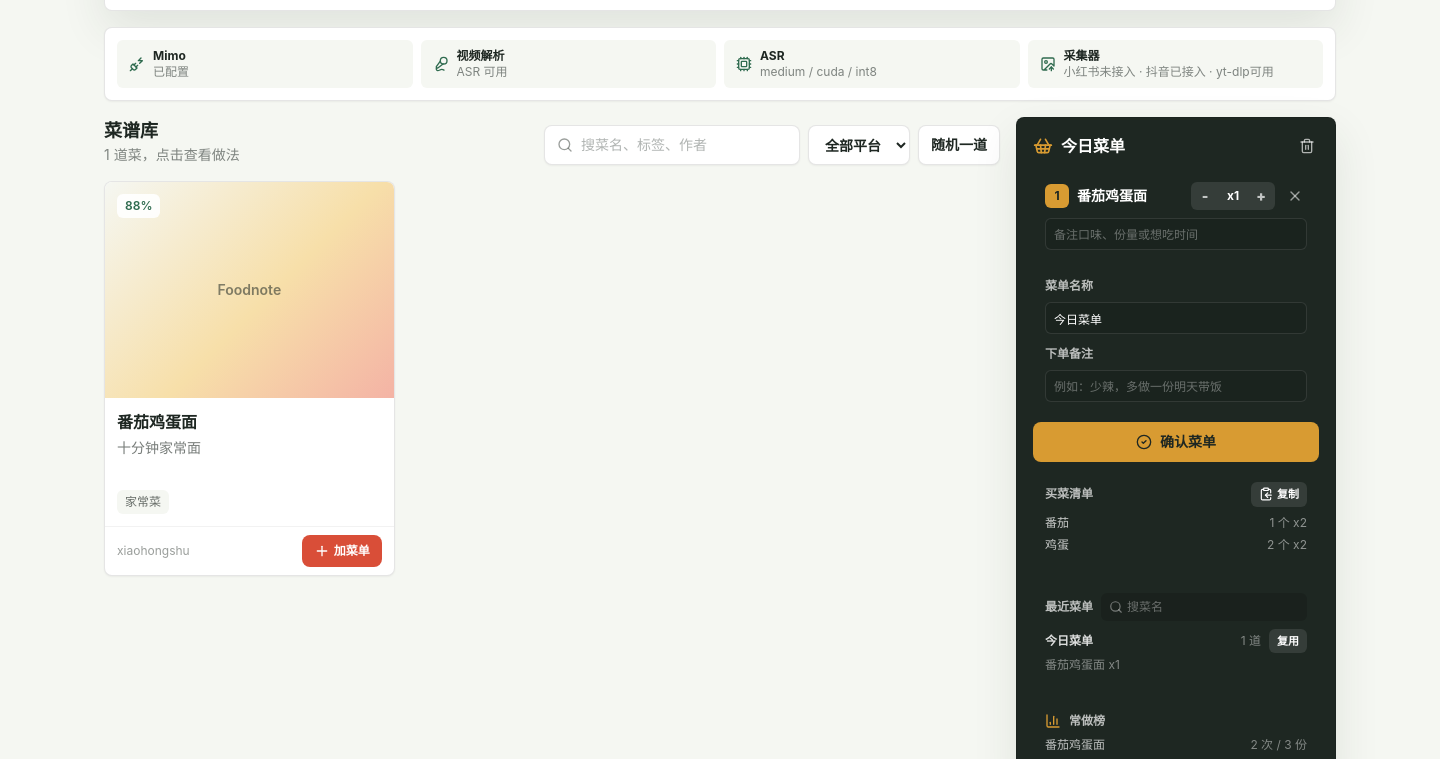
Test: App › deletes a recipe and keeps menu history intact
(page scrolled)
Click the button "Foodnote 88% 番茄鸡蛋面 十分钟家常面 家常菜".
click(249, 354)  # box 105,182 -> 394,526
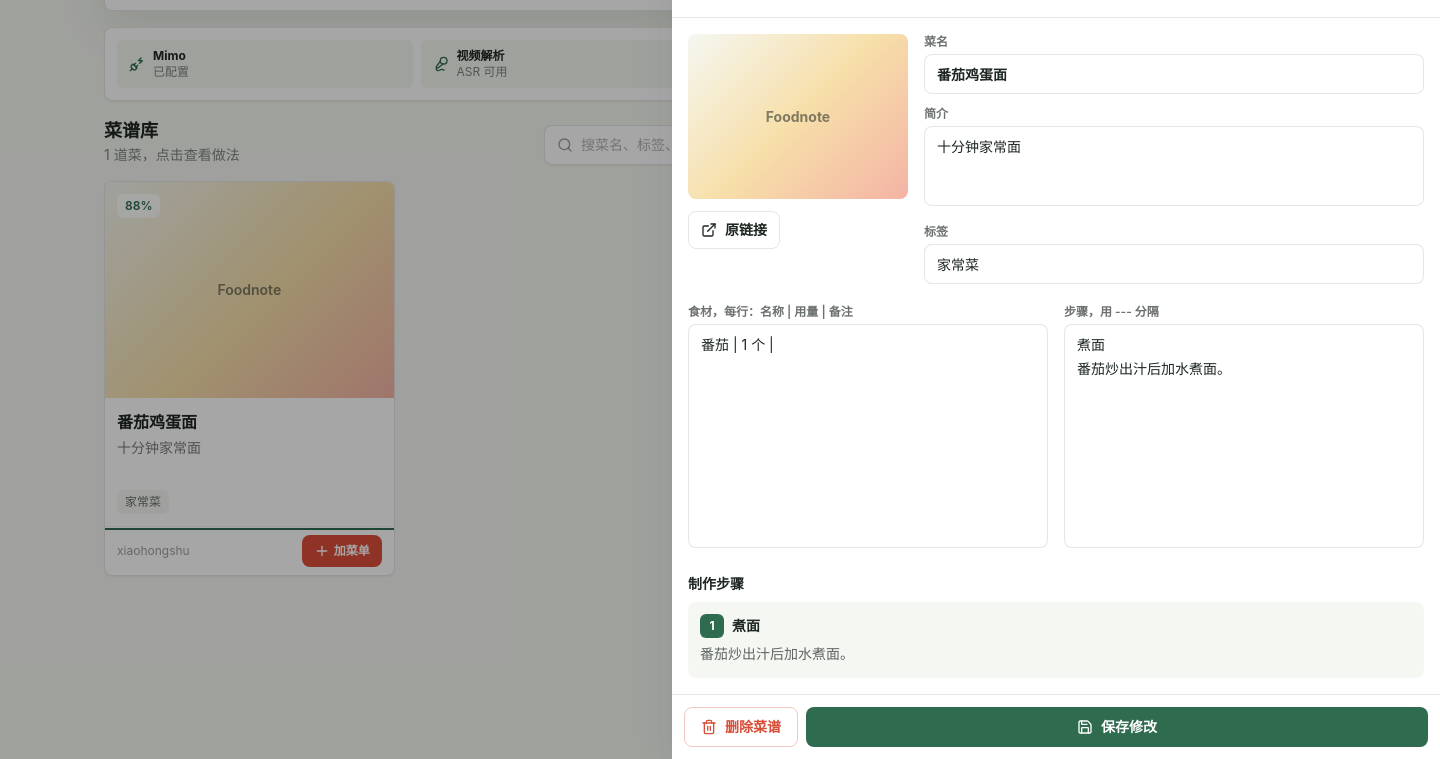
Click the button "删除菜谱".
click(741, 727)  # box 684,707 -> 798,747
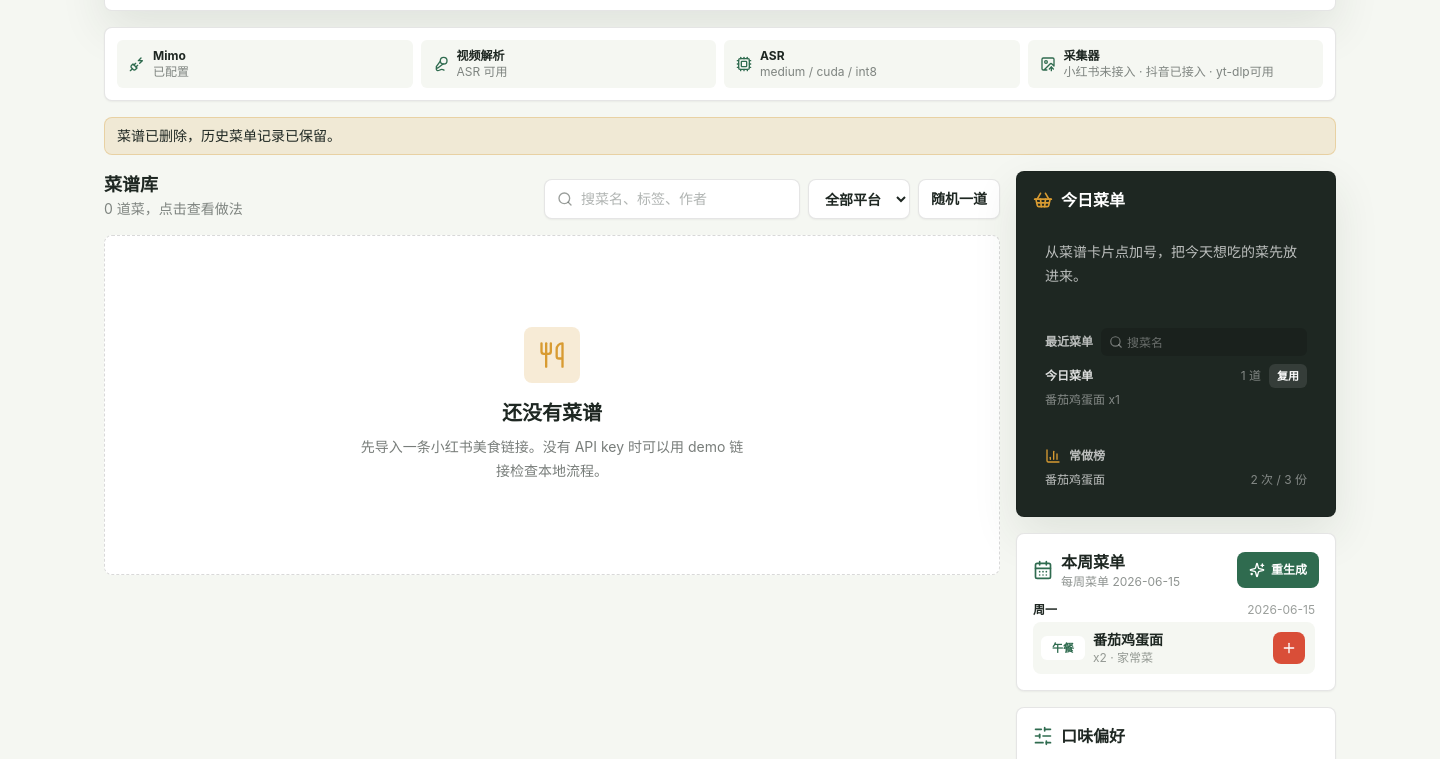
Expected: the heading "最近菜单" is shown, 1045,334 -> 1093,350
Now the text "菜谱已删除，历史菜单记录已保留。" is shown, box 104,117 -> 1336,155
